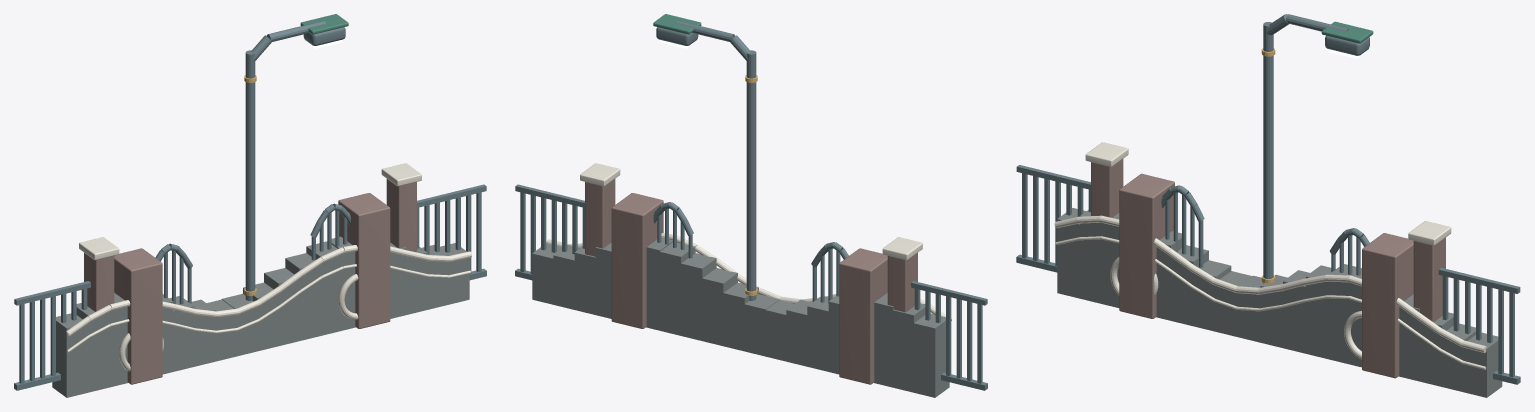
Rendered from street_furniture.glb.
The picture shows the model from 3 angles, left to right: view 1: azimuth 30°, elevation 25°; view 2: azimuth 150°, elevation 25°; view 3: azimuth 330°, elevation 25°; orthographic projection. The views are drawn at different scales.
Visible parts, largest first — view 1: side_stone_post_-1, side_stone_post_1, lamp_pole, wave_wall_panel_0, main_post_1, wave_wall_panel_11, wave_wall_panel_12, wave_wall_panel_1, wave_wall_panel_10, main_post_-1, wave_wall_panel_5, wave_wall_panel_9 (+22 smaller); view 2: side_stone_post_-1, side_stone_post_1, lamp_pole, wave_wall_panel_0, wave_wall_panel_12, wave_wall_panel_11, wave_wall_panel_1, main_post_1, wave_wall_panel_10, wave_wall_panel_2, wave_wall_panel_5, main_post_-1 (+22 smaller); view 3: side_stone_post_1, side_stone_post_-1, lamp_pole, main_post_1, wave_wall_panel_1, wave_wall_panel_11, wave_wall_panel_18, wave_wall_panel_12, wave_wall_panel_0, wave_wall_panel_10, main_post_-1, wave_wall_panel_5 (+22 smaller).
Boxes of the visible parts, x1,y1,x2,y2 form: side_stone_post_-1: [114, 248, 162, 384]; side_stone_post_1: [338, 193, 390, 328]; lamp_pole: [245, 50, 255, 300]; wave_wall_panel_0: [52, 313, 88, 397]; main_post_1: [386, 179, 416, 252]; wave_wall_panel_11: [285, 253, 321, 340]; wave_wall_panel_12: [306, 241, 342, 335]; wave_wall_panel_1: [76, 303, 109, 392]; wave_wall_panel_10: [264, 268, 300, 345]; main_post_-1: [84, 253, 114, 311]; wave_wall_panel_5: [169, 296, 194, 371]; wave_wall_panel_9: [243, 282, 279, 351]; side_stone_post_-1: [839, 248, 887, 384]; side_stone_post_1: [611, 193, 663, 328]; lamp_pole: [746, 50, 756, 300]; wave_wall_panel_0: [913, 313, 949, 397]; wave_wall_panel_12: [659, 242, 695, 335]; wave_wall_panel_11: [680, 253, 716, 340]; wave_wall_panel_1: [892, 303, 925, 392]; main_post_1: [585, 179, 615, 256]; wave_wall_panel_10: [701, 268, 737, 345]; wave_wall_panel_2: [874, 293, 893, 387]; wave_wall_panel_5: [807, 296, 829, 371]; main_post_-1: [887, 253, 917, 312]; side_stone_post_1: [1362, 233, 1413, 378]; side_stone_post_-1: [1119, 173, 1174, 318]; lamp_pole: [1263, 22, 1273, 283]; main_post_1: [1413, 237, 1445, 322]; wave_wall_panel_1: [1080, 210, 1103, 304]; wave_wall_panel_11: [1305, 265, 1331, 359]; wave_wall_panel_18: [1463, 332, 1502, 397]; wave_wall_panel_12: [1328, 264, 1361, 364]; wave_wall_panel_0: [1057, 208, 1086, 298]; wave_wall_panel_10: [1283, 270, 1309, 353]; main_post_-1: [1091, 159, 1123, 217]; wave_wall_panel_5: [1170, 245, 1208, 325].
Size of the model in its own units: 9 by 5.62 by 0.7.
